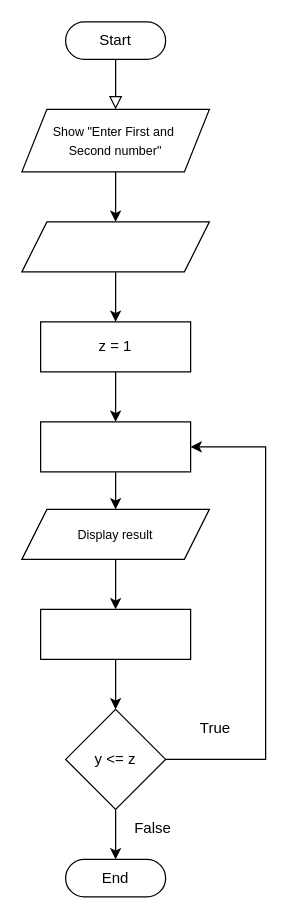
The diagram is 298 pixels wide and 919 high, and some of its shapes have lost their labels. Here are the shapes that lost their labels. From the top down, the box of each, then its label:
(21, 221, 209, 272): Input 2 numbers (as x, y)
(39, 421, 191, 472): result = x * z
(39, 608, 191, 659): z += 1
